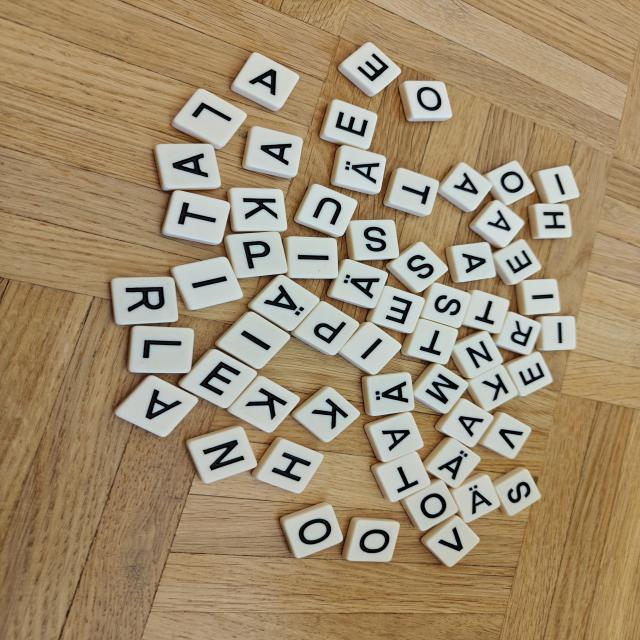a: (115, 375, 198, 437), (231, 52, 299, 111), (242, 126, 303, 178), (154, 144, 221, 191), (365, 412, 423, 462), (435, 398, 493, 447), (438, 162, 491, 212), (470, 200, 524, 248), (445, 242, 496, 282)
a_dot: (249, 275, 320, 331), (328, 259, 387, 309), (424, 437, 480, 488), (331, 145, 386, 194), (451, 473, 499, 523), (361, 372, 414, 416)
e: (179, 349, 257, 408), (338, 42, 400, 96), (320, 99, 377, 150), (367, 285, 424, 333), (492, 239, 541, 285), (505, 352, 552, 396)
h: (252, 437, 323, 493), (528, 203, 572, 239)
i: (215, 312, 290, 369), (171, 257, 242, 310), (339, 321, 401, 374), (284, 236, 338, 279), (532, 165, 580, 203), (515, 279, 560, 315), (535, 316, 576, 351)
k: (228, 376, 300, 432), (291, 386, 360, 442), (228, 187, 287, 232), (467, 365, 517, 411)
l: (172, 89, 247, 149), (128, 326, 194, 373)
m: (413, 363, 468, 413)
n: (187, 426, 257, 483), (451, 331, 503, 378)
o: (280, 502, 343, 558), (400, 479, 458, 531), (342, 517, 400, 562), (484, 161, 535, 205), (399, 81, 452, 122)
p: (292, 301, 359, 355), (224, 231, 287, 279)
r: (111, 276, 178, 325), (493, 312, 541, 354)
s: (386, 242, 448, 293), (492, 467, 540, 515), (420, 283, 471, 328), (346, 219, 399, 260)
t: (162, 190, 230, 245), (371, 452, 430, 502), (384, 168, 439, 217), (401, 319, 458, 365), (462, 290, 510, 333)
u: (294, 184, 357, 237)
v: (421, 515, 479, 567), (479, 412, 531, 458)
